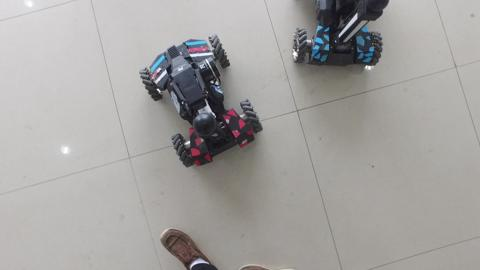chariot: (139, 29, 268, 176), (280, 1, 398, 75)
